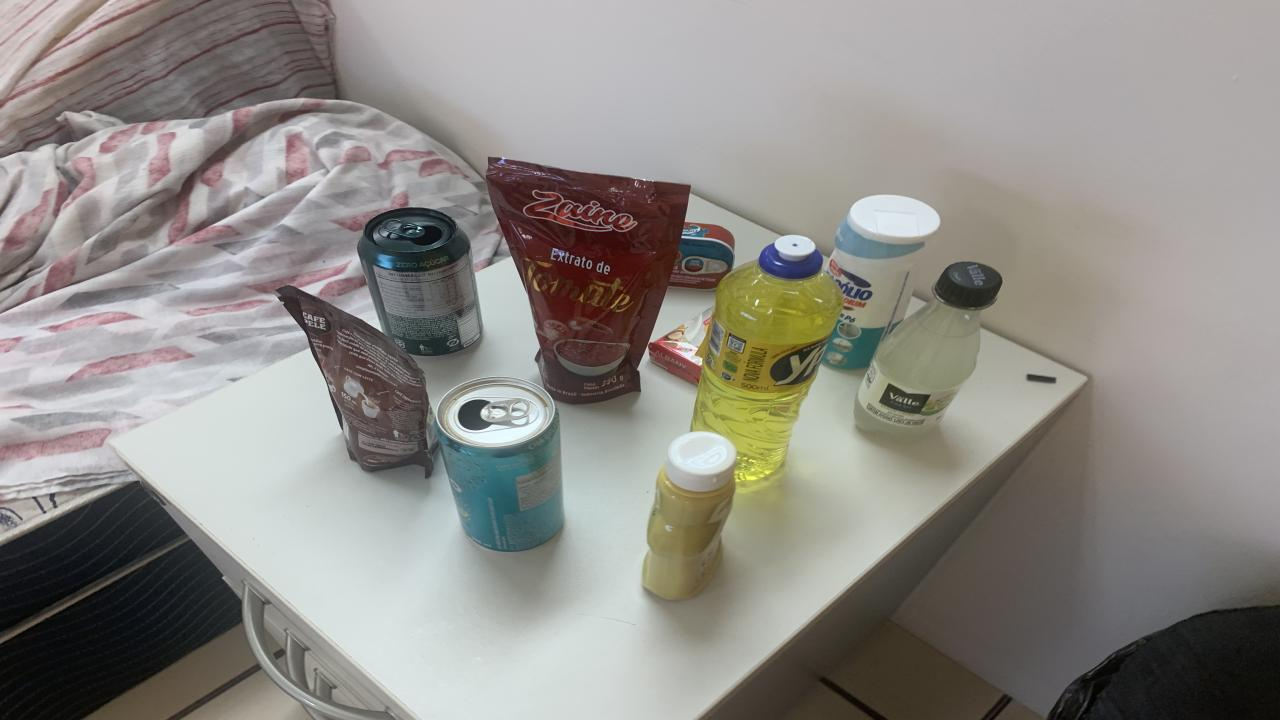Cleaner-Cleanup_Items: (822, 195, 940, 369)
Coffee-Pantry_Items: (278, 285, 435, 478)
Detergent-Cleanup_Items: (690, 234, 842, 482)
Guarana_Can-Drinks: (358, 208, 482, 356)
Mustard-Pantry_Items: (642, 431, 738, 600)
Soap-Cleanup_Items: (648, 308, 712, 384)
Soda-Drinks: (855, 262, 1002, 437)
Tea-Drinks: (438, 377, 565, 551)
Tomato_Sauce-Pantry_Items: (490, 158, 690, 403)
Tuna_Can-Pantry_Items: (670, 223, 735, 289)
